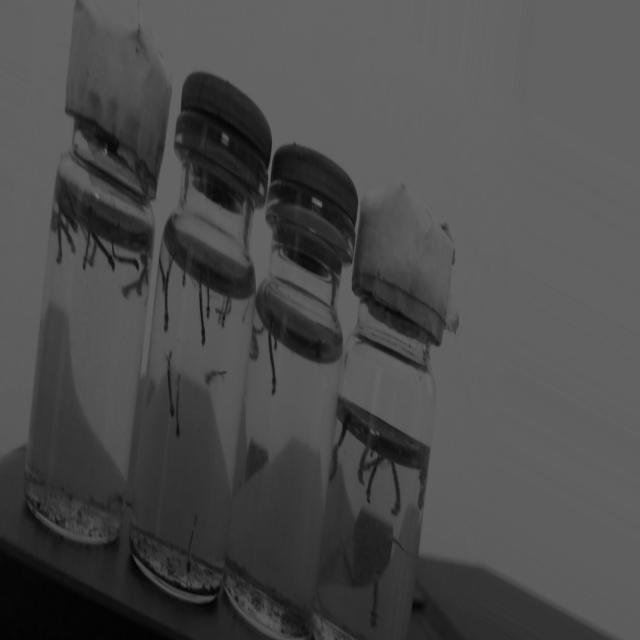larvas: (265, 324, 281, 394), (92, 233, 118, 272), (55, 214, 78, 255), (364, 456, 381, 505), (185, 513, 199, 572), (112, 241, 139, 271), (389, 461, 403, 517), (164, 256, 174, 330), (355, 442, 371, 487), (388, 536, 416, 559), (166, 351, 174, 416), (198, 280, 206, 344), (337, 412, 352, 446), (250, 326, 264, 362), (363, 453, 386, 473), (82, 230, 93, 271), (62, 208, 80, 233), (370, 575, 378, 625), (175, 379, 182, 435), (140, 252, 151, 285), (156, 256, 166, 290), (121, 279, 138, 298), (330, 449, 341, 478), (206, 369, 228, 383), (55, 225, 63, 263), (221, 297, 230, 329), (135, 272, 147, 296), (87, 243, 98, 267), (206, 278, 212, 317), (218, 295, 226, 324), (182, 266, 192, 289), (272, 326, 280, 352), (422, 472, 427, 510), (418, 478, 423, 508), (242, 300, 249, 321), (371, 446, 379, 458), (215, 307, 220, 313)
